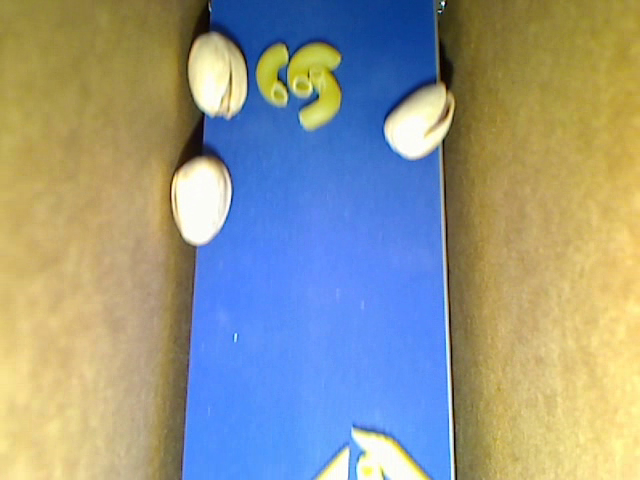elbow: (287, 40, 341, 100), (297, 65, 341, 131), (255, 42, 289, 108)
penne: (350, 426, 431, 479), (313, 444, 351, 479)
